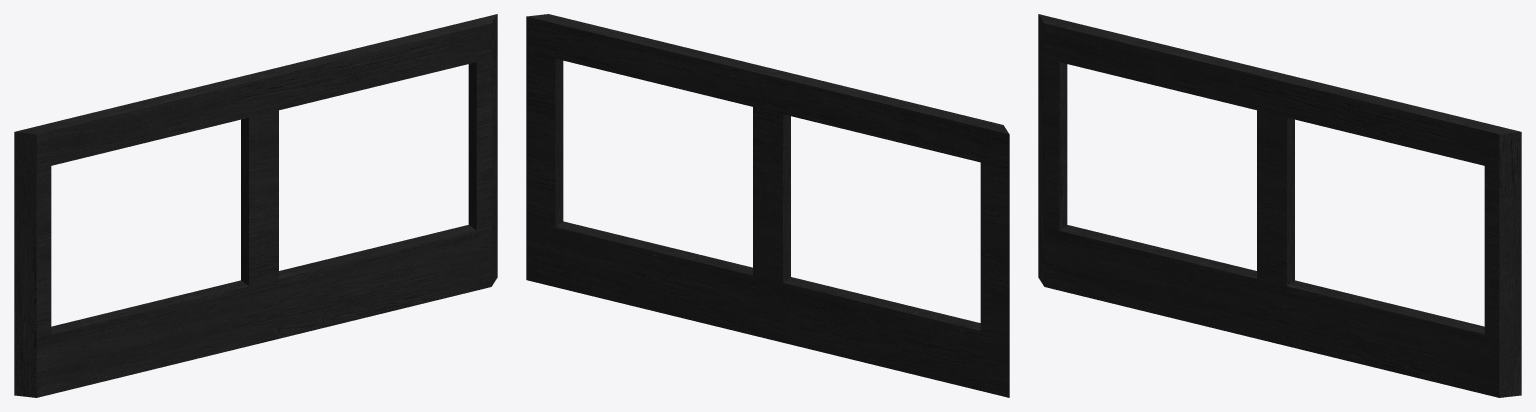
File: CageDoor.fbx
3 renders of one model, left to right at view 1: azimuth 30°, elevation 25°; view 2: azimuth 150°, elevation 25°; view 3: azimuth 330°, elevation 25°, orthographic.
Visible parts, largest first — view 1: ID2; view 2: ID2; view 3: ID2.
Boxes of the visible parts, <box> form: ID2: <box>14,14,497,397</box>; ID2: <box>526,14,1009,397</box>; ID2: <box>1038,14,1521,397</box>.
Bounding box in the file's own units: 259 × 135 × 7.5.
Materials: 1 (1 with a texture image).
